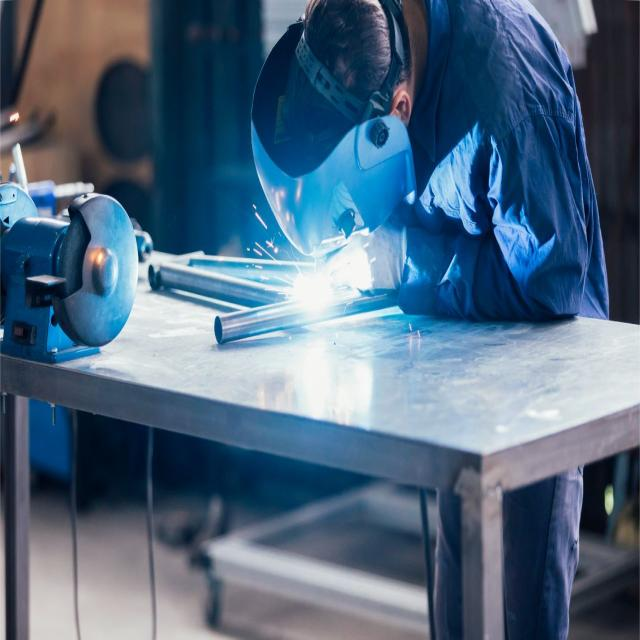welding: (293, 272, 340, 312)
